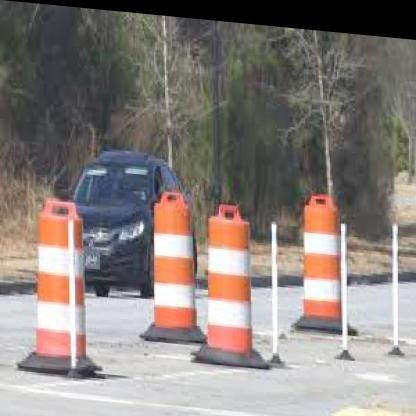obstacle: (34, 201, 92, 364), (203, 199, 255, 351), (152, 190, 197, 329), (304, 184, 348, 314)
